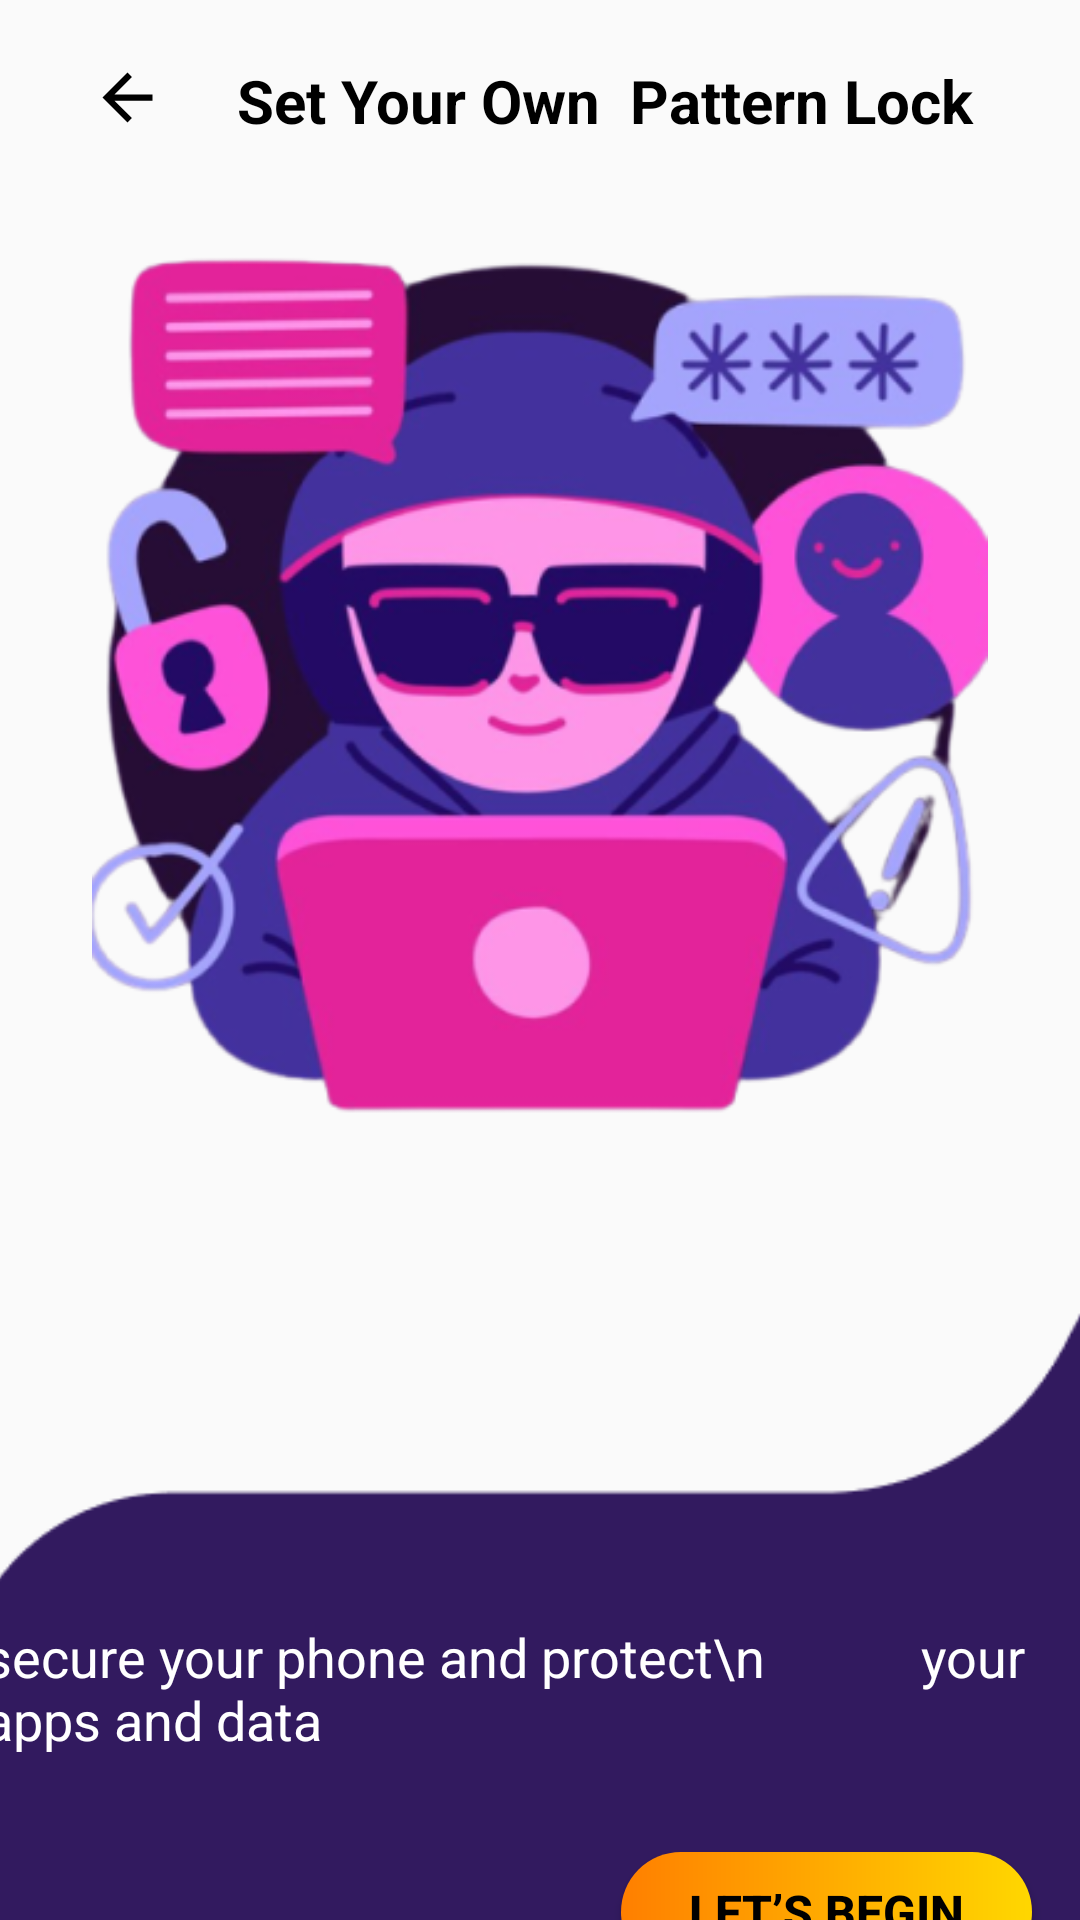

Icons on this 1080px x 1920px Android screen, each with the point to tap as [x,y]:
Back Arrow: [127,97]
